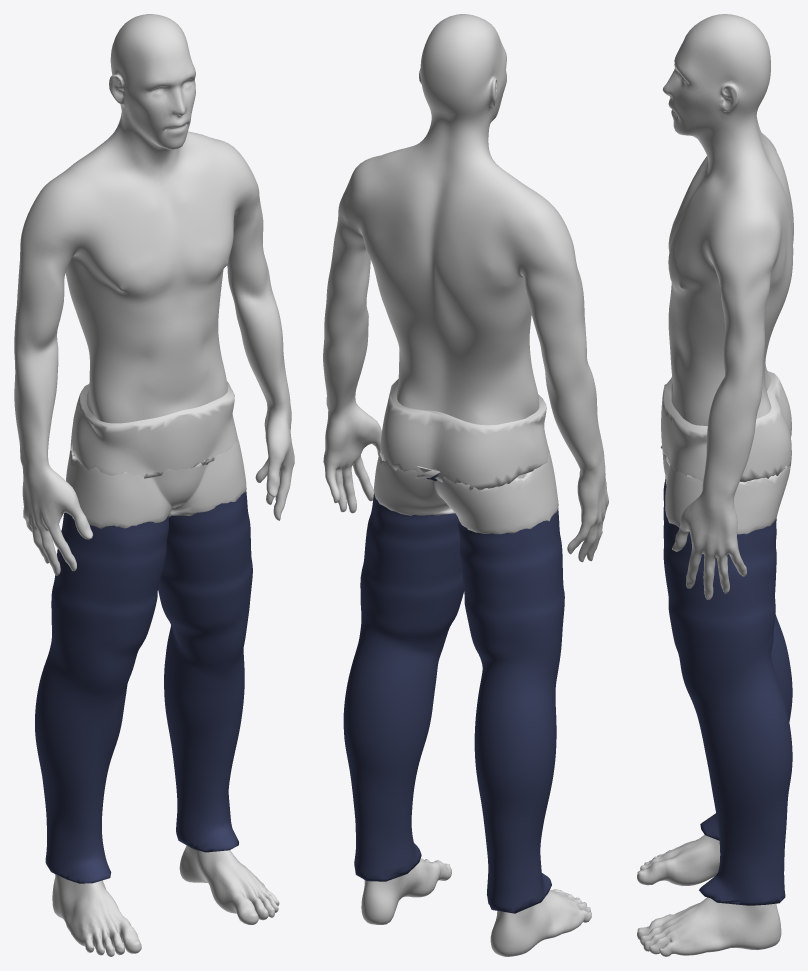
Rendered from humanbody.glb.
3 views of the same model, side by side, from view 1: azimuth 30°, elevation 25°; view 2: azimuth 150°, elevation 25°; view 3: azimuth 270°, elevation 25° (orthographic).
Parts seen in each view (by area): view 1: HumanBody, Pants; view 2: HumanBody, Pants; view 3: HumanBody, Pants.
Part boxes in pixels (bbox=[...]): HumanBody: bbox=[14, 14, 294, 956]; Pants: bbox=[35, 381, 252, 883]; HumanBody: bbox=[323, 14, 608, 956]; Pants: bbox=[343, 379, 564, 913]; HumanBody: bbox=[637, 14, 793, 956]; Pants: bbox=[661, 371, 792, 905].
Bounding box in the file's own units: 5.83 × 18.67 × 2.96.
